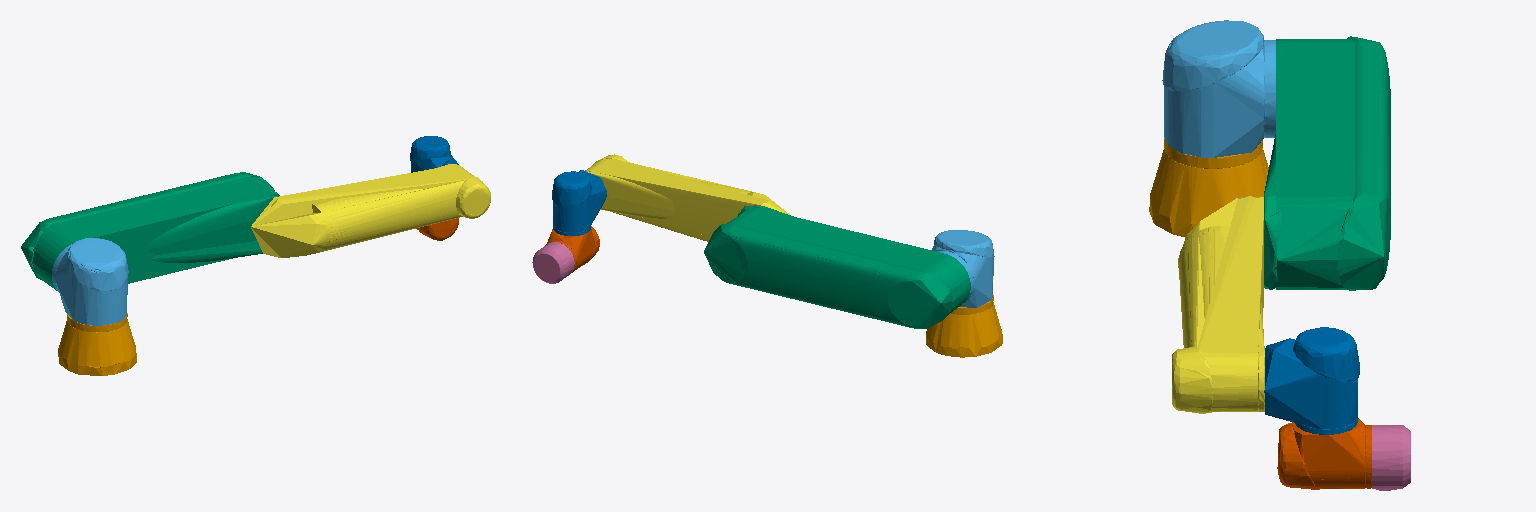
The robot description file, URDF, robot "ur5e":
<?xml version="1.0"?>
<!--
  Web-simulation URDF derived from the RynnMotion UR5e MJCF body tree.
  The joint frames and STL local frames intentionally come from the same model.
-->
<robot name="ur5e">
  <link name="base_link">
    <visual><geometry><mesh filename="assets/ur5e/base_0.stl"/></geometry></visual>
    <visual><geometry><mesh filename="assets/ur5e/base_1.stl"/></geometry></visual>
  </link>

  <link name="shoulder_link">
    <visual><geometry><mesh filename="assets/ur5e/shoulder_0.stl"/></geometry></visual>
    <visual><geometry><mesh filename="assets/ur5e/shoulder_1.stl"/></geometry></visual>
    <visual><geometry><mesh filename="assets/ur5e/shoulder_2.stl"/></geometry></visual>
  </link>
  <joint name="shoulder_pan_joint" type="revolute">
    <parent link="base_link"/>
    <child link="shoulder_link"/>
    <origin xyz="0 0 0.163" rpy="0 0 0"/>
    <axis xyz="0 0 1"/>
    <limit lower="-6.28319" upper="6.28319" effort="150" velocity="3.14159"/>
  </joint>

  <link name="upper_arm_link">
    <visual><geometry><mesh filename="assets/ur5e/upperarm_0.stl"/></geometry></visual>
    <visual><geometry><mesh filename="assets/ur5e/upperarm_1.stl"/></geometry></visual>
    <visual><geometry><mesh filename="assets/ur5e/upperarm_2.stl"/></geometry></visual>
    <visual><geometry><mesh filename="assets/ur5e/upperarm_3.stl"/></geometry></visual>
  </link>
  <joint name="shoulder_lift_joint" type="revolute">
    <parent link="shoulder_link"/>
    <child link="upper_arm_link"/>
    <origin xyz="0 0.138 0" rpy="0 1.5707963267948966 0"/>
    <axis xyz="0 1 0"/>
    <limit lower="-6.28319" upper="6.28319" effort="150" velocity="3.14159"/>
  </joint>

  <link name="forearm_link">
    <visual><geometry><mesh filename="assets/ur5e/forearm_0.stl"/></geometry></visual>
    <visual><geometry><mesh filename="assets/ur5e/forearm_1.stl"/></geometry></visual>
    <visual><geometry><mesh filename="assets/ur5e/forearm_2.stl"/></geometry></visual>
    <visual><geometry><mesh filename="assets/ur5e/forearm_3.stl"/></geometry></visual>
  </link>
  <joint name="elbow_joint" type="revolute">
    <parent link="upper_arm_link"/>
    <child link="forearm_link"/>
    <origin xyz="0 -0.131 0.425" rpy="0 0 0"/>
    <axis xyz="0 1 0"/>
    <limit lower="-3.14159" upper="3.14159" effort="150" velocity="3.14159"/>
  </joint>

  <link name="wrist_1_link">
    <visual><geometry><mesh filename="assets/ur5e/wrist1_0.stl"/></geometry></visual>
    <visual><geometry><mesh filename="assets/ur5e/wrist1_1.stl"/></geometry></visual>
    <visual><geometry><mesh filename="assets/ur5e/wrist1_2.stl"/></geometry></visual>
  </link>
  <joint name="wrist_1_joint" type="revolute">
    <parent link="forearm_link"/>
    <child link="wrist_1_link"/>
    <origin xyz="0 0 0.392" rpy="0 1.5707963267948966 0"/>
    <axis xyz="0 1 0"/>
    <limit lower="-6.28319" upper="6.28319" effort="28" velocity="3.14159"/>
  </joint>

  <link name="wrist_2_link">
    <visual><geometry><mesh filename="assets/ur5e/wrist2_0.stl"/></geometry></visual>
    <visual><geometry><mesh filename="assets/ur5e/wrist2_1.stl"/></geometry></visual>
    <visual><geometry><mesh filename="assets/ur5e/wrist2_2.stl"/></geometry></visual>
  </link>
  <joint name="wrist_2_joint" type="revolute">
    <parent link="wrist_1_link"/>
    <child link="wrist_2_link"/>
    <origin xyz="0 0.127 0" rpy="0 0 0"/>
    <axis xyz="0 0 1"/>
    <limit lower="-6.28319" upper="6.28319" effort="28" velocity="3.14159"/>
  </joint>

  <link name="wrist_3_link">
    <visual><geometry><mesh filename="assets/ur5e/wrist3.stl"/></geometry></visual>
  </link>
  <joint name="wrist_3_joint" type="revolute">
    <parent link="wrist_2_link"/>
    <child link="wrist_3_link"/>
    <origin xyz="0 0 0.1" rpy="0 0 0"/>
    <axis xyz="0 1 0"/>
    <limit lower="-6.28319" upper="6.28319" effort="28" velocity="3.14159"/>
  </joint>

  <link name="tool0"/>
  <joint name="wrist_3-tool0" type="fixed">
    <parent link="wrist_3_link"/>
    <child link="tool0"/>
    <origin xyz="0 0.25 0" rpy="1.5707963267948966 0 -1.5707963267948966"/>
  </joint>
</robot>

--- What the picture shows (computed from the rendered views, not written in the file) ---
The picture shows the robot from 3 angles, left to right: view 1: azimuth 30°, elevation 25°; view 2: azimuth 150°, elevation 25°; view 3: azimuth 270°, elevation 25°; orthographic projection.
Model ur5e with 8 links and 7 joints (6 revolute, 1 fixed), rooted at base_link, posed every joint at zero.
Visible links, largest first — view 1: upper_arm_link, forearm_link, shoulder_link, base_link, wrist_1_link, wrist_2_link; view 2: upper_arm_link, forearm_link, base_link, wrist_1_link, shoulder_link, wrist_3_link, wrist_2_link; view 3: upper_arm_link, forearm_link, shoulder_link, wrist_1_link, base_link, wrist_2_link, wrist_3_link.
Boxes of the visible links, bbox=[...] form: upper_arm_link: bbox=[21, 172, 279, 290]; forearm_link: bbox=[251, 164, 490, 257]; shoulder_link: bbox=[52, 238, 128, 325]; base_link: bbox=[58, 313, 136, 375]; wrist_1_link: bbox=[410, 136, 458, 172]; wrist_2_link: bbox=[416, 218, 458, 240]; upper_arm_link: bbox=[704, 205, 970, 328]; forearm_link: bbox=[585, 154, 789, 241]; base_link: bbox=[926, 295, 1002, 357]; wrist_1_link: bbox=[552, 170, 606, 235]; shoulder_link: bbox=[932, 230, 994, 307]; wrist_3_link: bbox=[532, 242, 574, 283]; wrist_2_link: bbox=[546, 226, 599, 272]; upper_arm_link: bbox=[1264, 36, 1390, 290]; forearm_link: bbox=[1172, 196, 1264, 413]; shoulder_link: bbox=[1162, 20, 1275, 157]; wrist_1_link: bbox=[1264, 327, 1359, 434]; base_link: bbox=[1149, 138, 1268, 237]; wrist_2_link: bbox=[1277, 418, 1371, 489]; wrist_3_link: bbox=[1372, 425, 1410, 490].
Size in the robot's own frame: 0.932 by 0.3087 by 0.2346 metres.
20 mesh visuals loaded from 20 distinct referenced files (20 binary STL).
